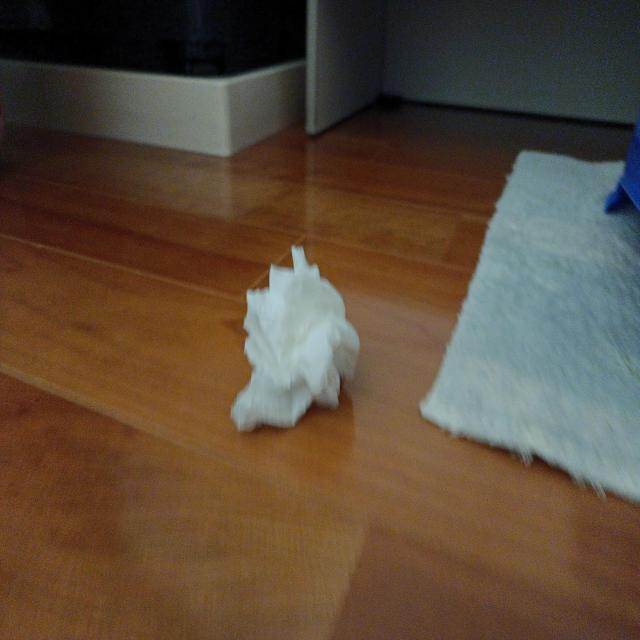Paper: (216, 234, 376, 430)
